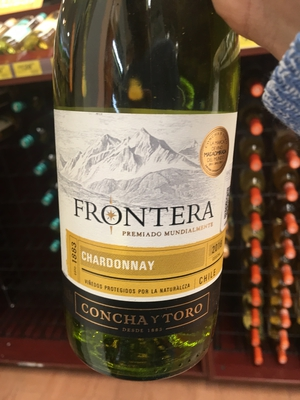frontera chardonnay: (48, 8, 274, 382)
